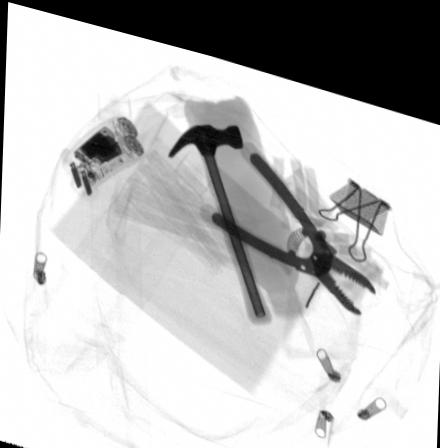Hammer: (166, 113, 270, 311)
Pliers: (200, 127, 375, 295)
